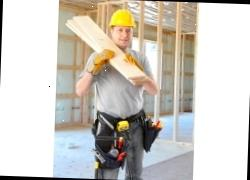helmet: (107, 9, 136, 29)
